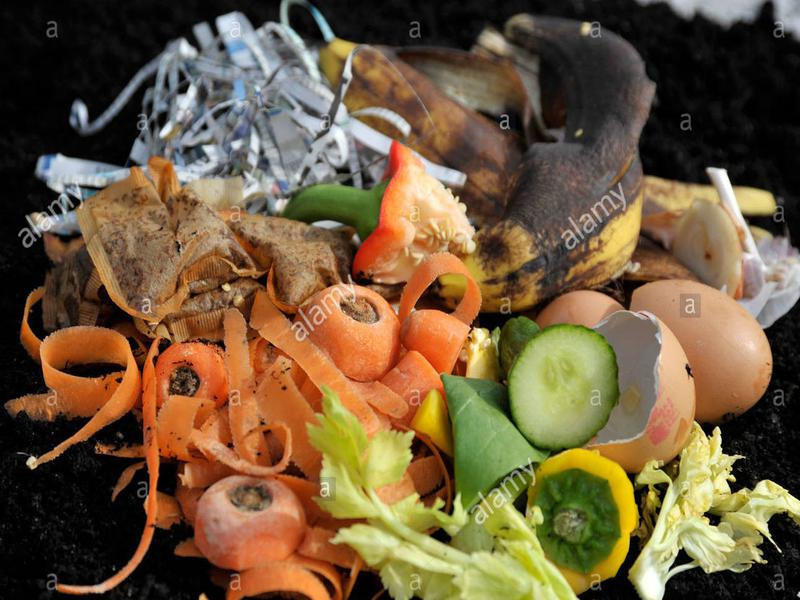vegetation: (8, 14, 796, 600)
